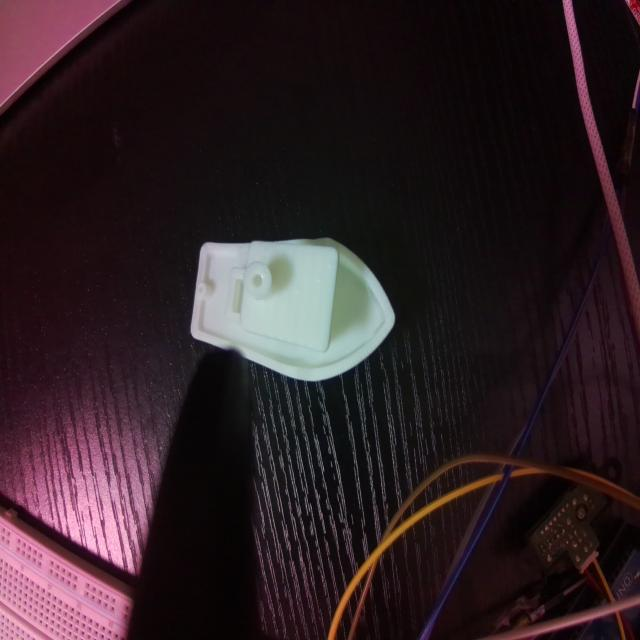ship: (190, 233, 396, 383)
